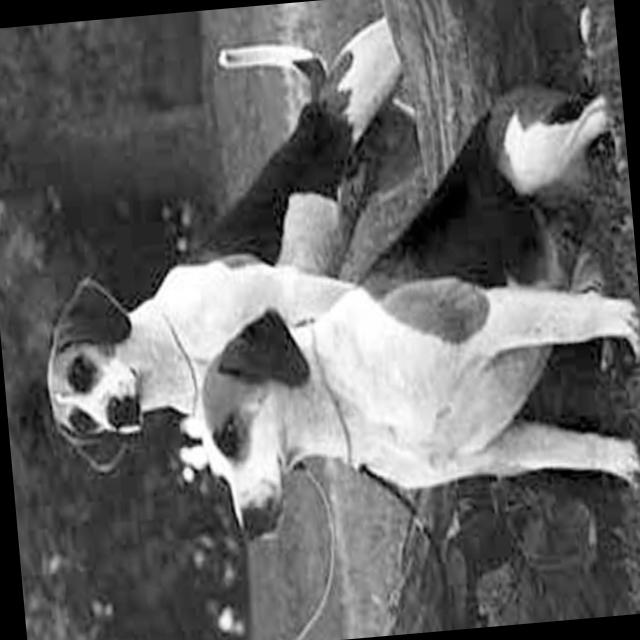sitting: (162, 66, 640, 548)
